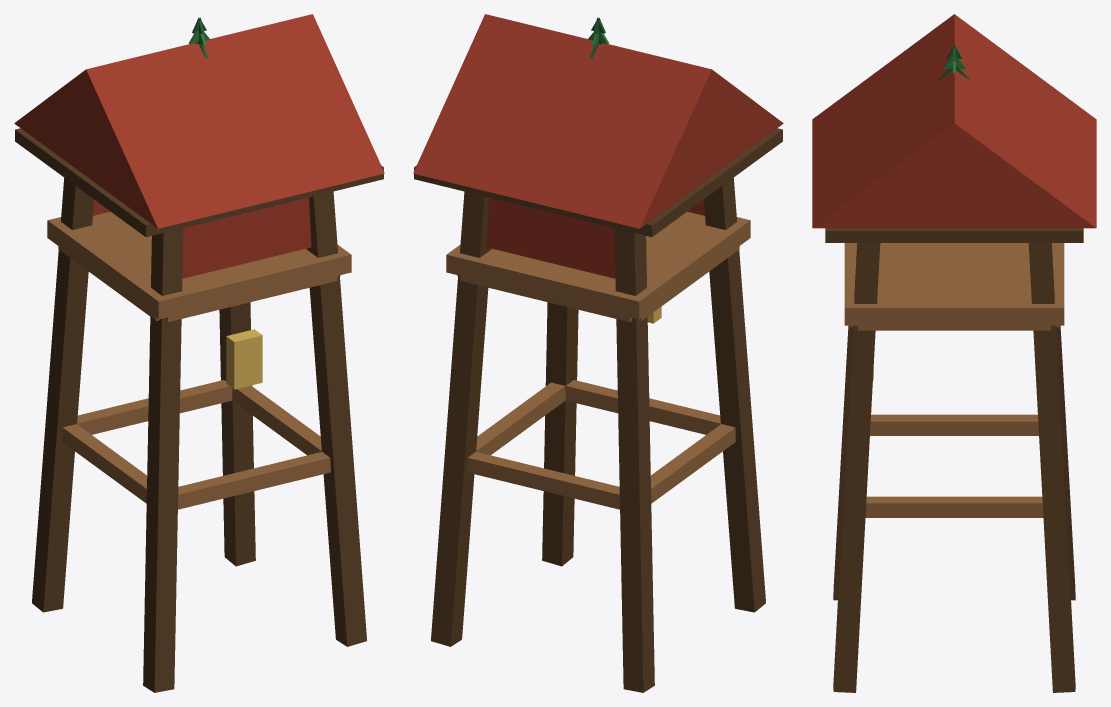
File: towerA.glb
3 views of the same model, side by side, from view 1: azimuth 30°, elevation 25°; view 2: azimuth 150°, elevation 25°; view 3: azimuth 270°, elevation 25° (orthographic).
Parts seen in each view (by area): view 1: pineValley-towerA; view 2: pineValley-towerA; view 3: pineValley-towerA.
Part boxes in pixels (x1,y1,x2,y2): pineValley-towerA: (14,14,384,692); pineValley-towerA: (413,14,783,692); pineValley-towerA: (812,14,1096,692).
Bounding box in the file's own units: 0.42 × 1.02 × 0.44.
